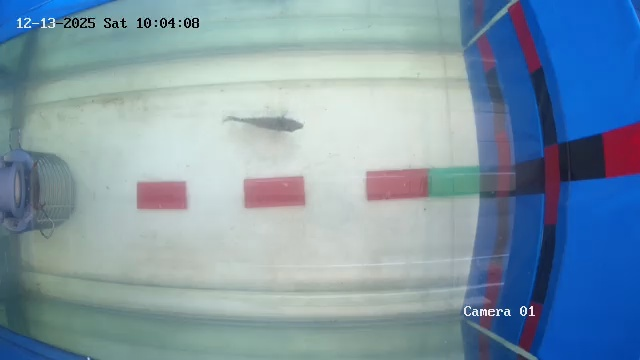fish: (235, 107, 306, 138)
